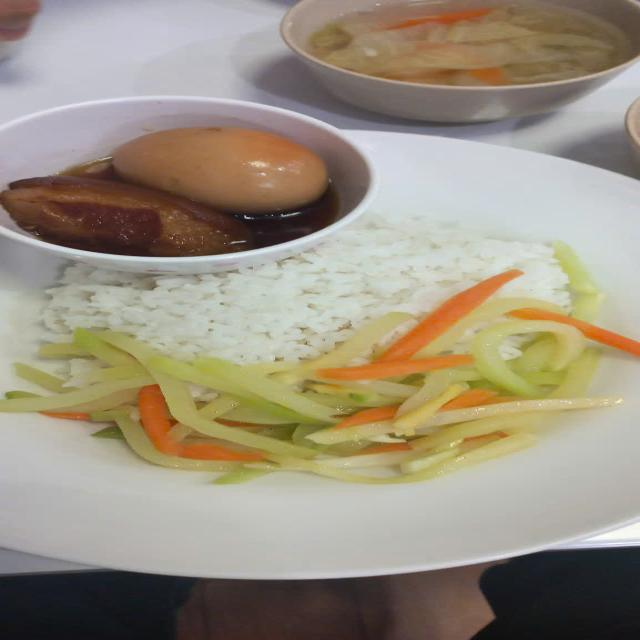canh cai: (309, 1, 635, 85)
com: (41, 215, 569, 366)
kho trung: (0, 128, 327, 256)
rau: (0, 246, 639, 483)
